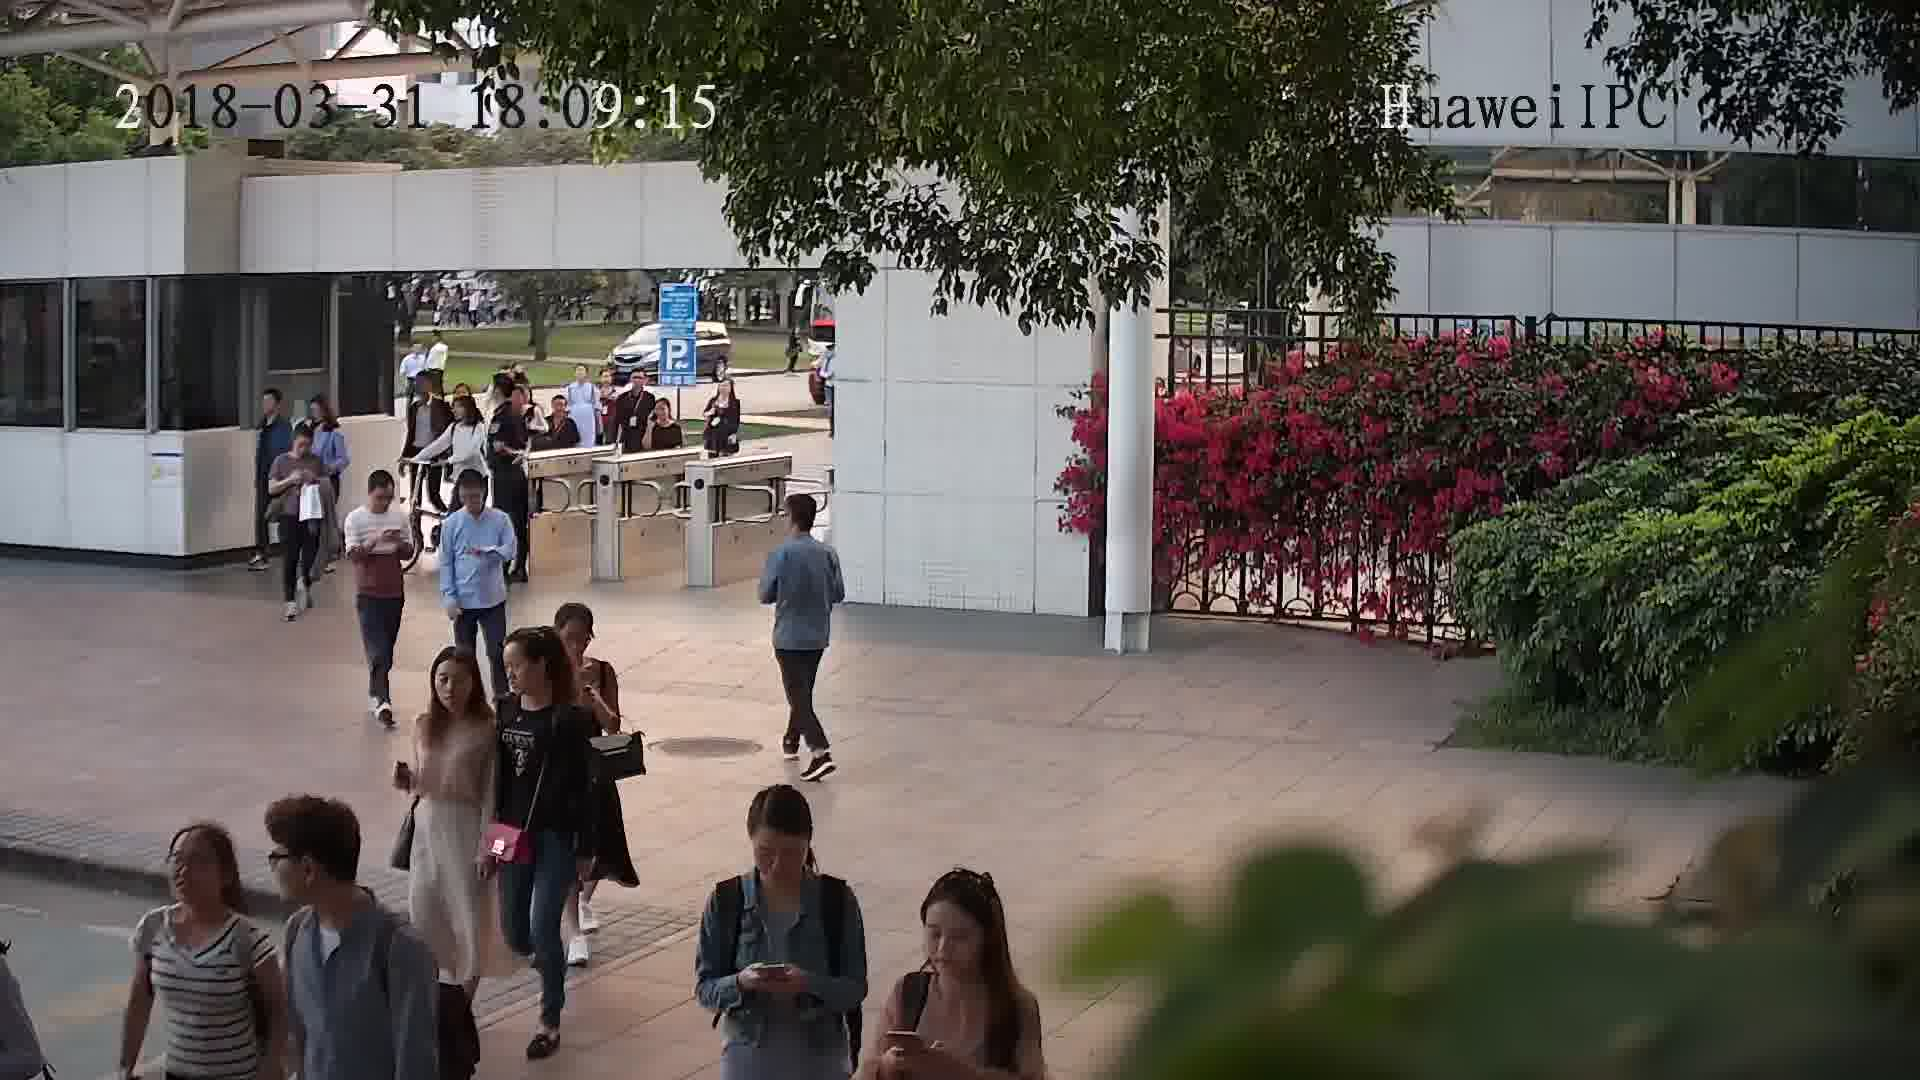face: (914, 897, 993, 976), (250, 827, 323, 900), (159, 832, 230, 903), (749, 823, 815, 889), (488, 638, 547, 697), (428, 660, 480, 712)
person: (263, 791, 436, 981), (876, 867, 1038, 1023), (702, 784, 859, 929), (134, 818, 270, 967), (498, 625, 595, 735), (407, 643, 499, 744), (546, 598, 614, 685), (767, 491, 842, 570), (444, 468, 519, 539), (348, 464, 414, 524), (273, 418, 323, 475), (301, 391, 346, 445), (443, 391, 487, 440), (406, 365, 450, 413), (253, 385, 295, 434), (486, 374, 528, 424), (646, 394, 688, 441), (619, 362, 659, 409), (703, 376, 745, 419), (542, 388, 580, 433), (567, 357, 598, 396), (395, 340, 427, 368)
